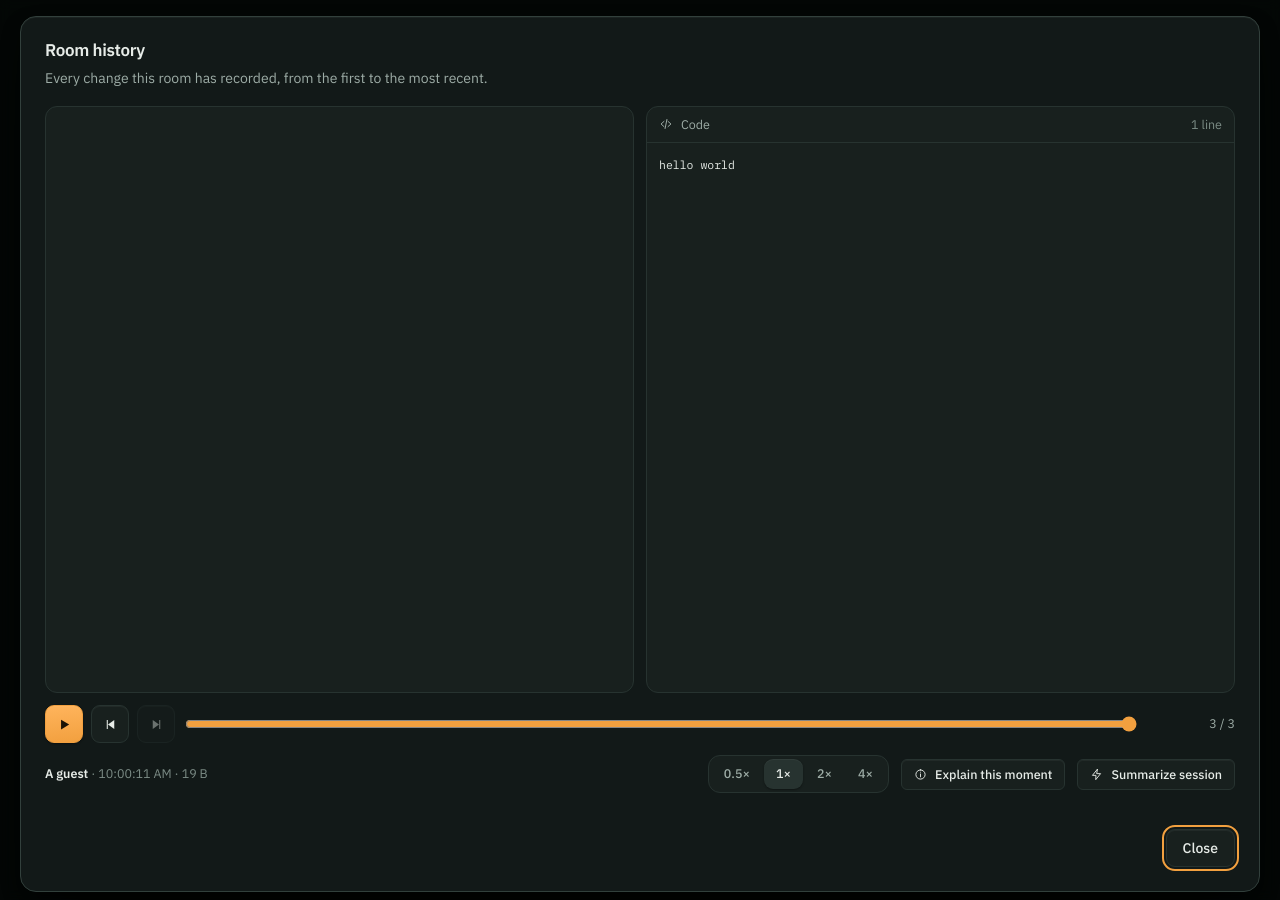
Test: ReplayViewer › still replays when the names cannot be read
Expected: the text "3 / 3" is shown, [1209,715,1235,731]
Expected: the text "hello world" is shown, [659,157,735,172]
Set the slider named "Position in history" to "2" at (817, 724), box [185,713,1137,735]
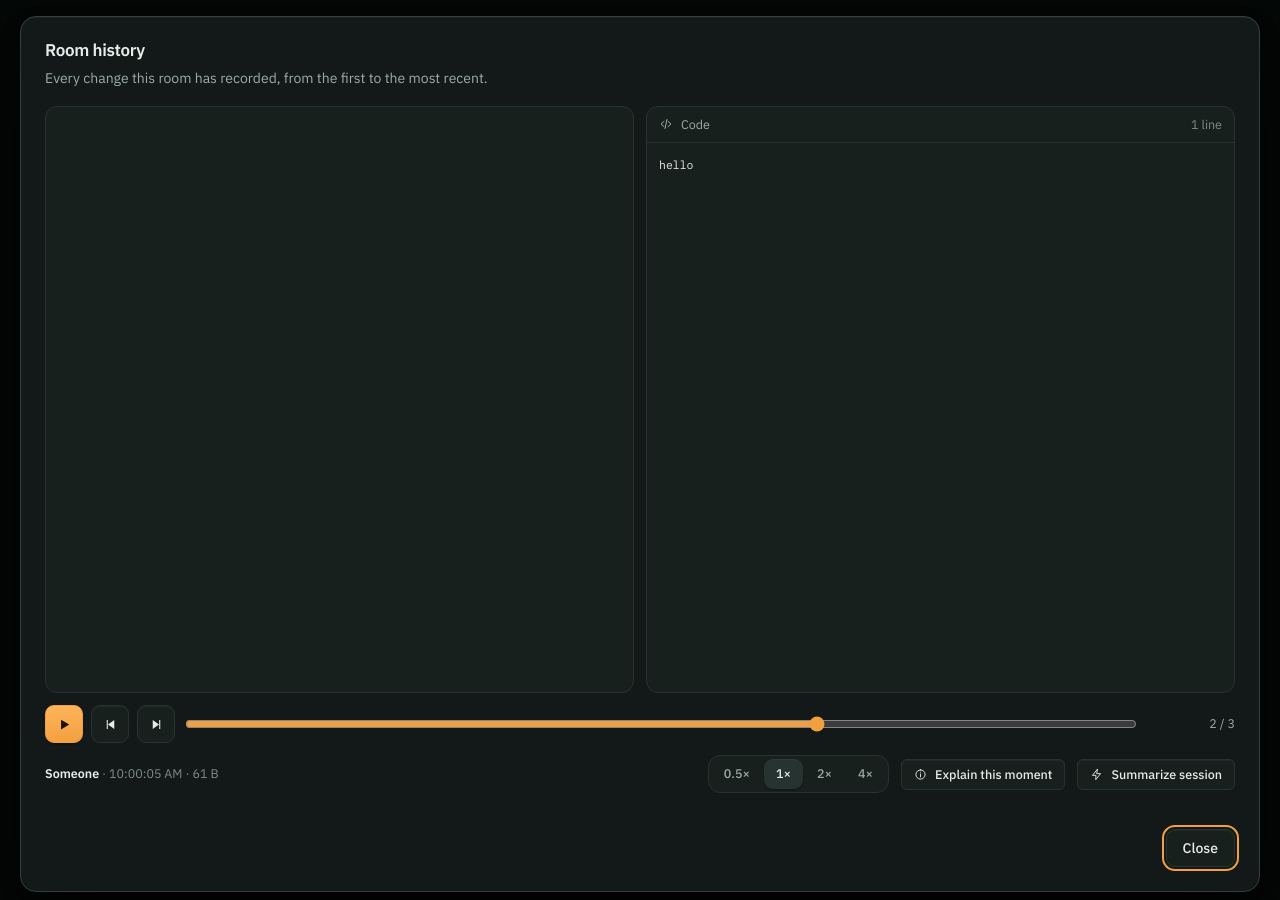
Expected: the text "Someone" is shown, [45,765,99,781]
